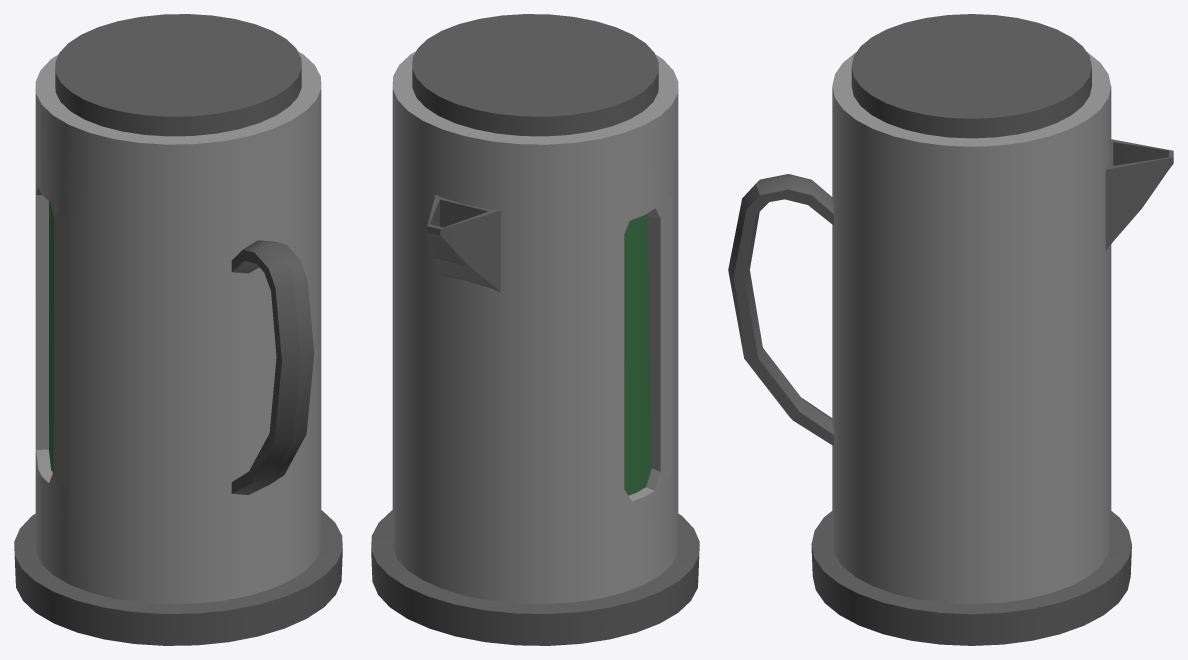
Rendered from Kettle.fbx.
3 renders of one model, left to right at view 1: azimuth 30°, elevation 25°; view 2: azimuth 150°, elevation 25°; view 3: azimuth 270°, elevation 25°, orthographic.
Visible parts, largest first — view 1: Cylinder.001, Torus; view 2: Cylinder.001, Cube.008; view 3: Cylinder.001, Torus, Cube.008.
Boxes of the visible parts, <box> form: Cylinder.001: <box>14,14,342,645</box>; Torus: <box>231,240,314,495</box>; Cylinder.001: <box>371,14,699,645</box>; Cube.008: <box>427,195,500,292</box>; Cylinder.001: <box>811,14,1131,645</box>; Torus: <box>728,174,833,445</box>; Cube.008: <box>1105,139,1173,250</box>.
Size of the model in its own units: 1.73 by 2.95 by 2.33.
